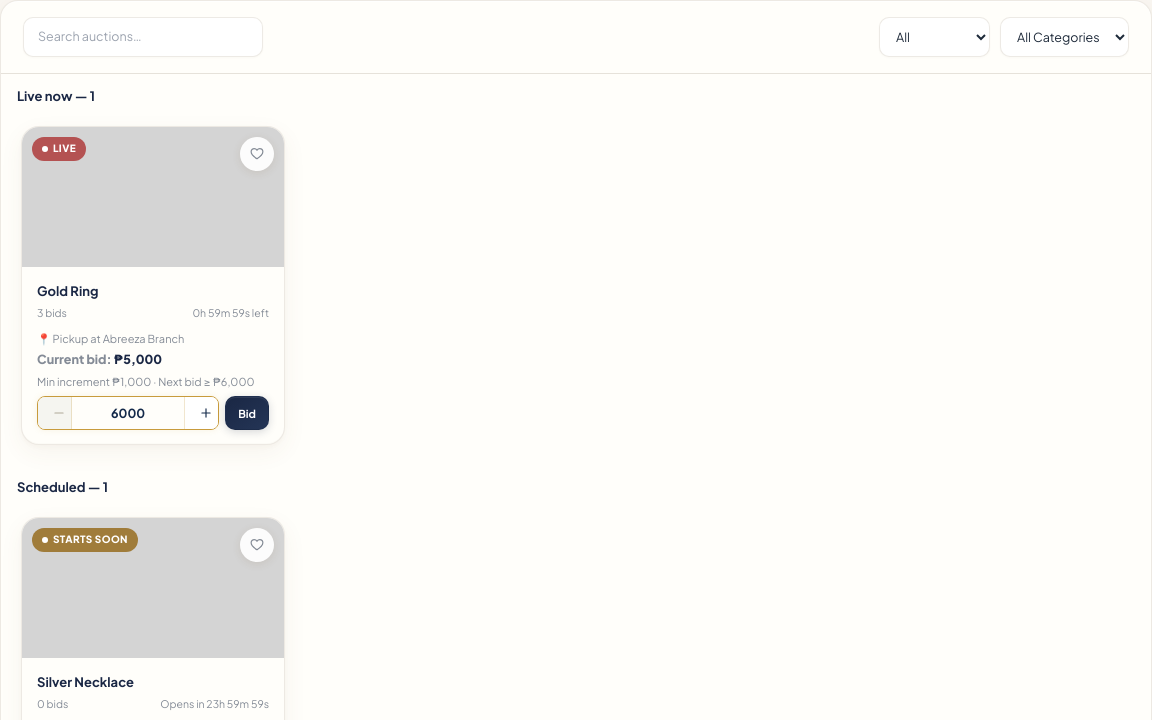
Test case: Customer Auctions page › Live filter only shows live
Check: the heading "Gold Ring" is shown, box [37,283,98,299]
Select "Live" in the dropdown named "Filter by status" at (934, 37), box [879,17,990,57]
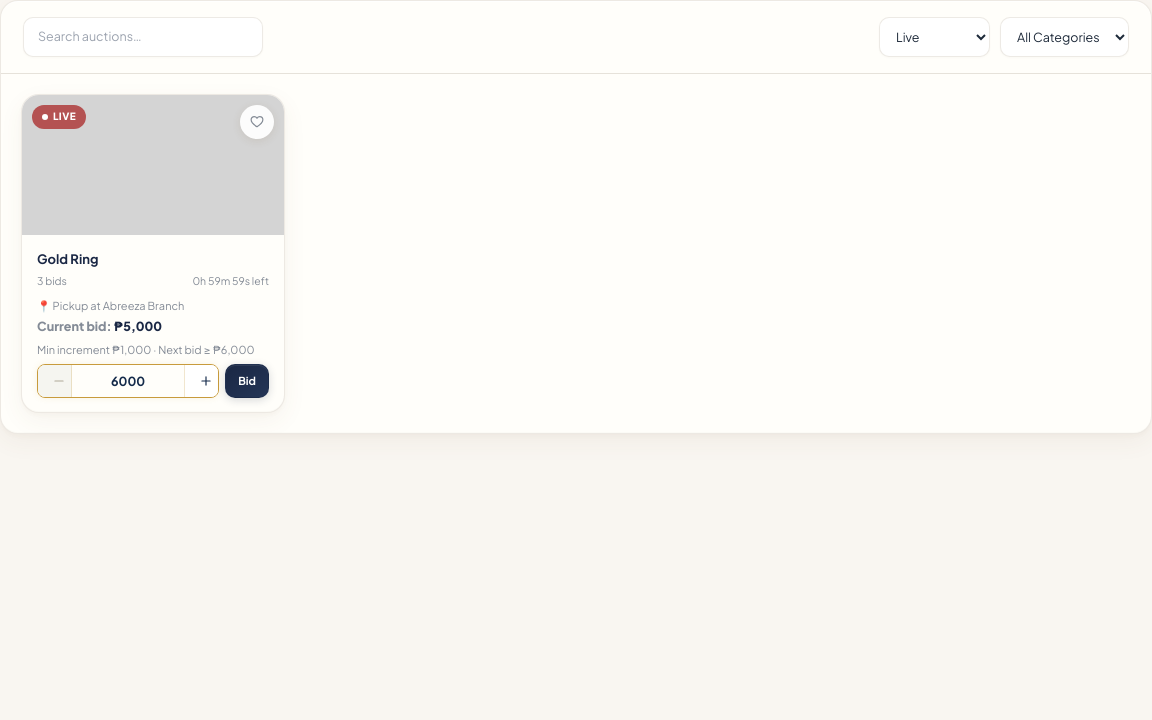
Check: the heading "Gold Ring" is shown, box [37,251,98,267]
Check: the heading "Silver Necklace" is gone
